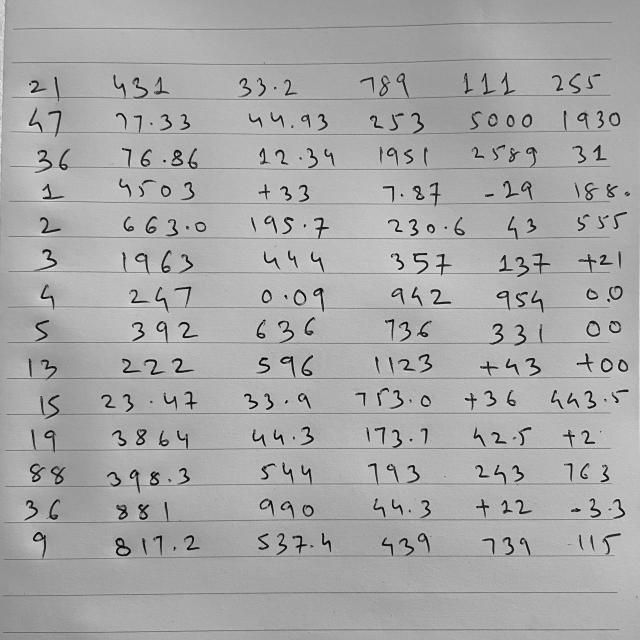Number: (98, 386, 198, 415), (110, 104, 196, 136), (112, 532, 208, 560), (115, 173, 199, 204), (105, 462, 193, 491), (118, 211, 209, 239), (116, 141, 202, 170), (546, 385, 632, 413), (110, 425, 193, 452), (249, 213, 332, 240), (105, 68, 175, 100), (118, 246, 195, 275), (384, 213, 467, 239), (245, 110, 331, 135), (254, 145, 339, 170), (352, 384, 432, 410), (119, 353, 196, 380), (124, 282, 193, 312), (254, 530, 336, 555), (126, 318, 200, 345), (377, 178, 443, 208), (260, 247, 328, 275), (386, 249, 454, 277), (248, 422, 318, 449), (260, 285, 327, 313), (241, 389, 316, 414), (255, 315, 317, 345), (469, 142, 540, 168), (253, 351, 316, 380), (363, 421, 430, 448), (469, 422, 537, 448), (113, 497, 175, 525), (473, 492, 535, 520), (256, 495, 321, 521), (567, 492, 627, 520), (254, 458, 316, 485), (27, 142, 76, 176), (367, 494, 433, 519), (236, 74, 299, 100), (575, 350, 633, 378), (389, 283, 452, 308), (459, 387, 522, 412), (356, 70, 412, 98), (366, 458, 422, 486), (364, 109, 426, 134), (374, 142, 431, 169), (478, 354, 542, 378), (484, 321, 548, 345), (462, 71, 521, 97), (571, 528, 625, 556), (559, 107, 622, 131), (255, 178, 313, 204), (372, 352, 434, 376), (22, 102, 68, 134), (561, 459, 615, 485), (494, 288, 548, 314), (466, 111, 536, 131), (375, 532, 433, 556), (478, 532, 536, 556), (472, 460, 530, 484), (20, 494, 66, 524), (571, 179, 631, 202), (574, 210, 630, 234), (482, 179, 538, 203), (382, 316, 433, 342), (494, 252, 554, 274), (24, 68, 66, 98), (26, 460, 69, 488), (550, 71, 600, 95), (576, 248, 625, 272), (582, 316, 626, 342), (582, 282, 626, 308), (502, 215, 544, 240), (559, 425, 602, 449), (569, 142, 610, 167), (25, 354, 60, 382), (28, 427, 62, 455), (34, 391, 64, 420), (27, 528, 54, 560), (34, 280, 60, 311), (35, 180, 68, 204), (33, 245, 59, 273), (36, 212, 63, 236), (30, 317, 54, 344)
